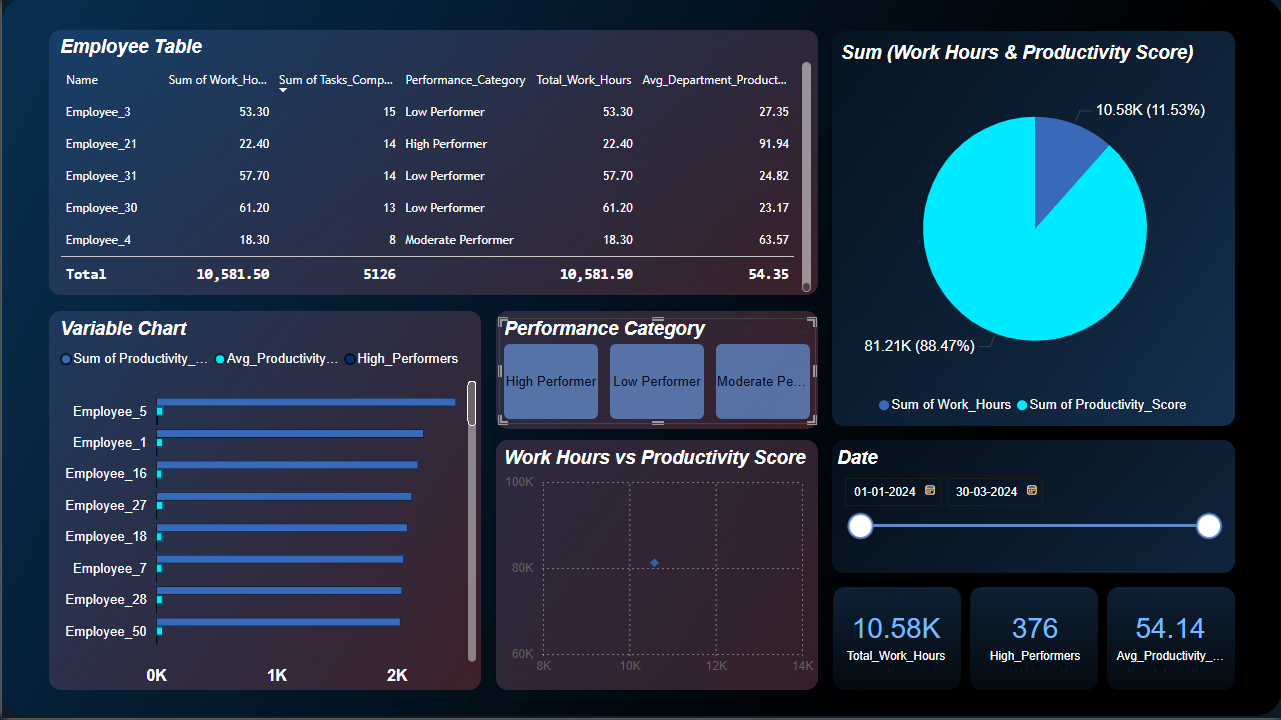

The dashboard page shown, as its layout file describes it:
{"tool":"powerbi","page":{"name":"Page 1","canvas":[1280,720],"ordinal":0},"visuals":[{"type":"clusteredBarChart","title":"Variable Chart","fields":{"Category":["Sheet1.Name"],"Y":["Sum(Sheet1.Productivity_Score)","Sheet1.Avg_Productivity_Score","Sheet1.High_Performers"]},"box":[53.3,320,425.6,374.4],"z":0},{"type":"scatterChart","title":"Work Hours vs Productivity Score","fields":{"X":["Sum(Sheet1.Work_Hours)"],"Y":["Sum(Sheet1.Productivity_Score)"]},"box":[496.7,448.9,318.9,235.6],"z":1000},{"type":"tableEx","title":"Employee Table","fields":{"Values":["Sheet1.Name","Sum(Sheet1.Work_Hours)","Sum(Sheet1.Tasks_Completed)","Sheet1.Performance_Category","Sheet1.Total_Work_Hours","Sheet1.Avg_Department_Productivity"]},"box":[53.3,37.8,761.1,261.1],"z":2000},{"type":"card","fields":{"Values":["Sheet1.Avg_Productivity_Score"]},"box":[1108.9,585.4,118.9,102.2],"z":3000},{"type":"card","fields":{"Values":["Sheet1.High_Performers"]},"box":[972.2,585.4,122.2,102.2],"z":4000},{"type":"card","fields":{"Values":["Sheet1.Total_Work_Hours"]},"box":[831.1,585.4,125.6,102.2],"z":5000},{"type":"pieChart","title":"Sum (Work Hours & Productivity Score)","fields":{"Y":["Sum(Sheet1.Work_Hours)","Sum(Sheet1.Productivity_Score)"]},"box":[834.4,44.4,397.8,381.1],"z":6000},{"type":"slicer","title":"Date","fields":{"Values":["Sheet1.Date"]},"box":[830,448.9,397.8,112.2],"z":7000},{"type":"advancedSlicerVisual","title":"Performance Category","fields":{"Values":["Sheet1.Performance_Category"]},"box":[496.7,320,317.8,105.6],"z":8001}]}

Visuals, with their boxes in screenshot pixels (x1, y1, x2, y2), scaled from the page's 1280x720 canvas onto the 1281x720 screenshot:
"Variable Chart" clusteredBarChart: (left=53, top=320, right=479, bottom=694)
"Work Hours vs Productivity Score" scatterChart: (left=497, top=449, right=816, bottom=684)
"Employee Table" tableEx: (left=53, top=38, right=815, bottom=299)
card - Sheet1.Avg_Productivity_Score: (left=1110, top=585, right=1229, bottom=688)
card - Sheet1.High_Performers: (left=973, top=585, right=1095, bottom=688)
card - Sheet1.Total_Work_Hours: (left=832, top=585, right=957, bottom=688)
"Sum (Work Hours & Productivity Score)" pieChart: (left=835, top=44, right=1233, bottom=426)
"Date" slicer: (left=831, top=449, right=1229, bottom=561)
"Performance Category" advancedSlicerVisual: (left=497, top=320, right=815, bottom=426)
